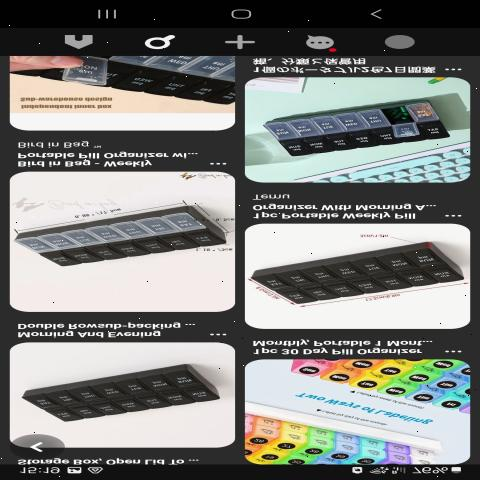PillBox: (258, 234, 462, 320), (13, 195, 233, 273), (260, 92, 462, 168), (20, 360, 225, 428)
